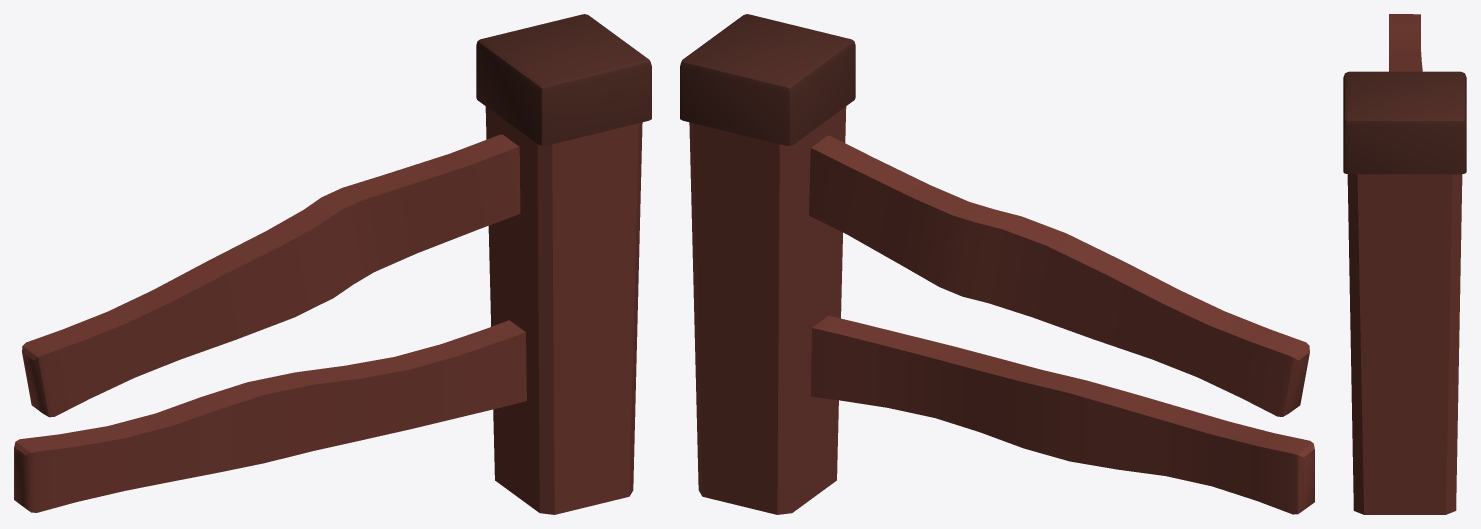
The model's file is fence03.fbx.
3 views of the same model, side by side, from view 1: azimuth 30°, elevation 25°; view 2: azimuth 150°, elevation 25°; view 3: azimuth 270°, elevation 25° (orthographic). The views are drawn at different scales.
Parts seen in each view (by area): view 1: fence03; view 2: fence03; view 3: fence03.
Boxes of the visible parts, x1=… form: fence03: x1=14, y1=14, x2=651, y2=514; fence03: x1=680, y1=14, x2=1314, y2=514; fence03: x1=1343, y1=14, x2=1466, y2=514.
Bounding box in the file's own units: 1.49 × 1.04 × 0.29.
